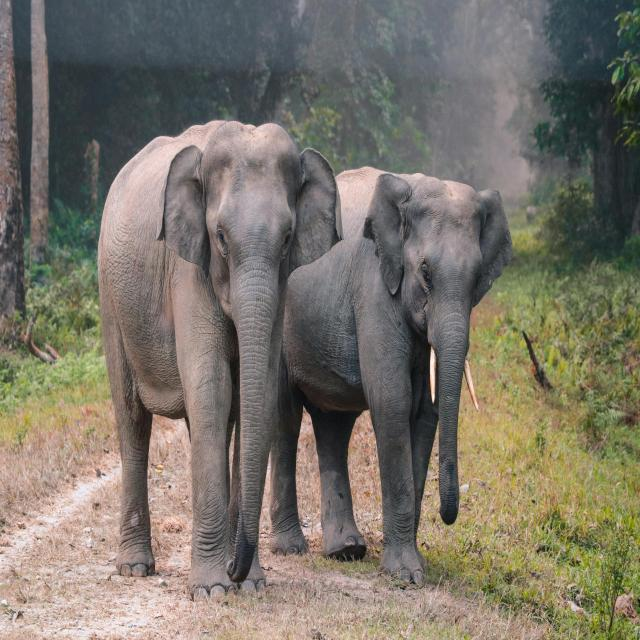Elephant: (98, 119, 344, 601), (265, 165, 515, 590)
